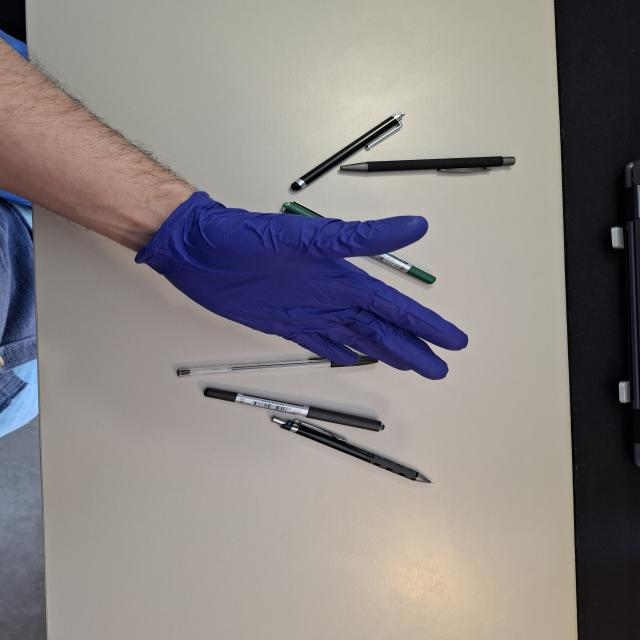glove_on: (130, 188, 472, 382)
